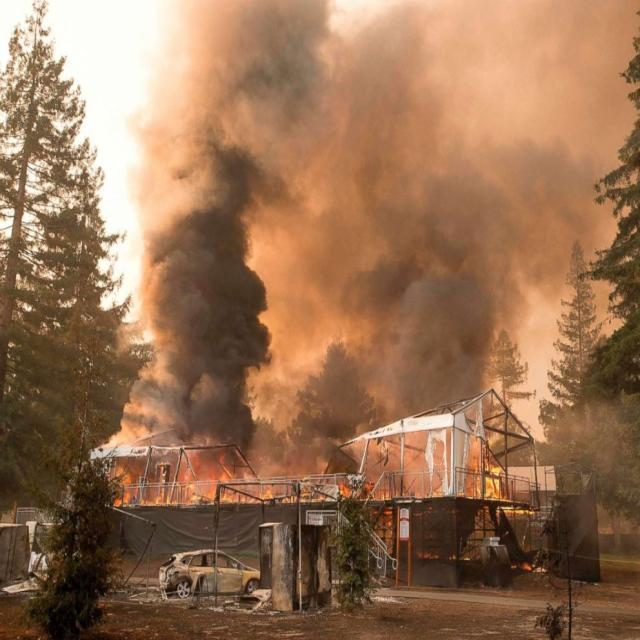Smoke: (109, 0, 640, 458)
